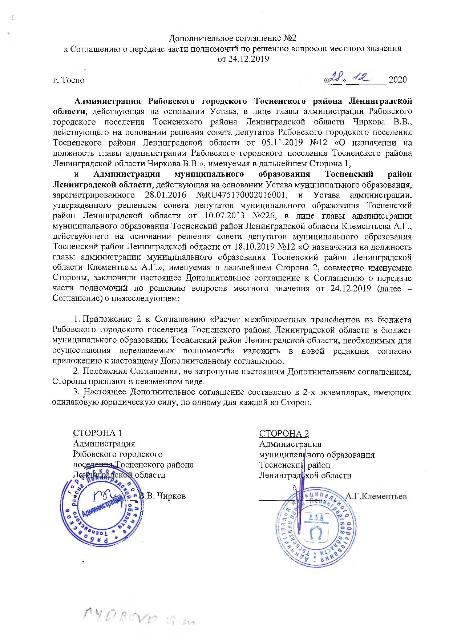stamp: (61, 462, 144, 550), (272, 486, 358, 570)
